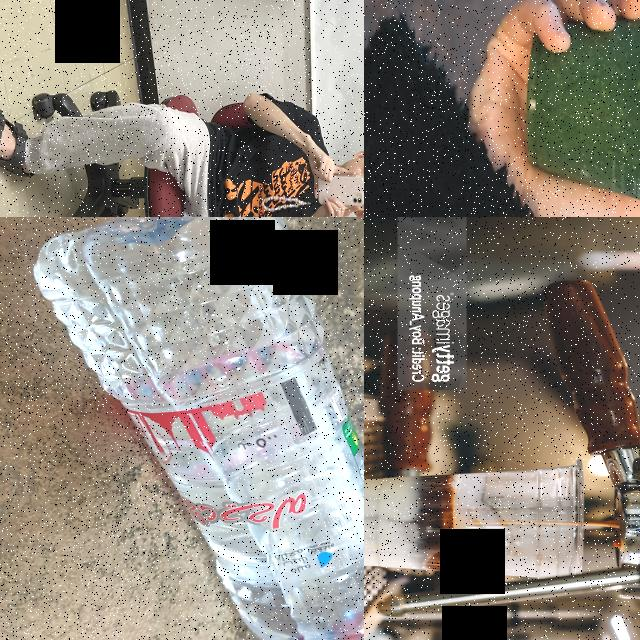bottle: (29, 217, 364, 640)
cup: (364, 458, 585, 582), (521, 0, 640, 217)
